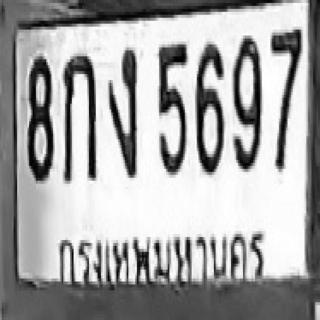A01: (62, 50, 96, 181)
A07: (106, 44, 137, 178)
N05: (157, 42, 187, 175)
N06: (195, 42, 222, 172)
N07: (270, 27, 302, 172)
N08: (26, 53, 53, 178)
N09: (231, 34, 262, 170)
P04: (51, 221, 274, 292)
